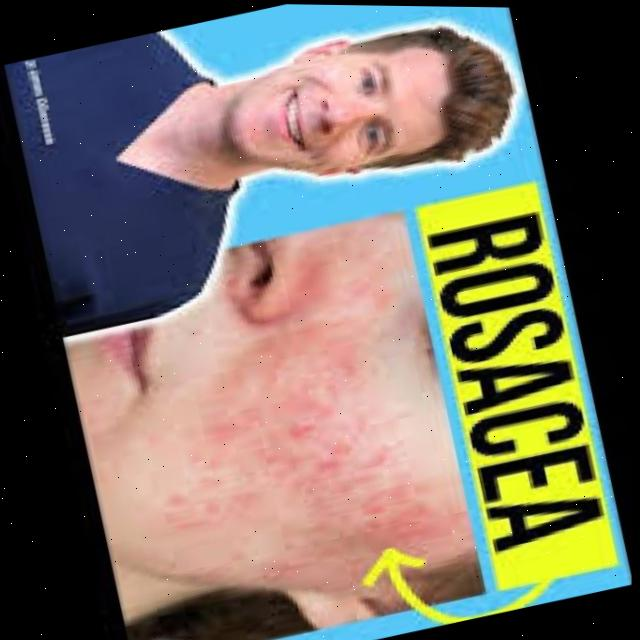Rosacea: (116, 272, 458, 609)
